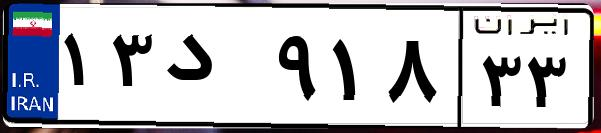1: (330, 28, 385, 110), (57, 26, 110, 100)
3: (475, 38, 525, 113), (525, 38, 570, 115), (110, 28, 158, 98)
8: (385, 28, 445, 110)
9: (270, 28, 330, 110)
د: (158, 20, 270, 120)
